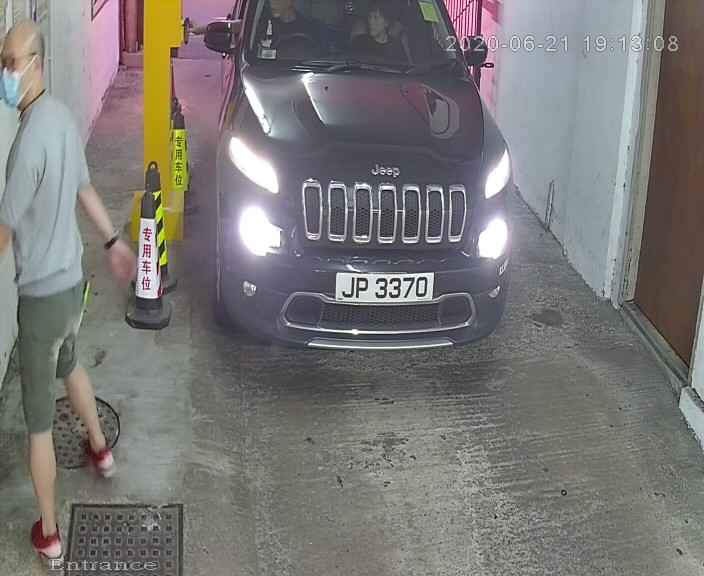privatecar: (191, 1, 535, 398)
